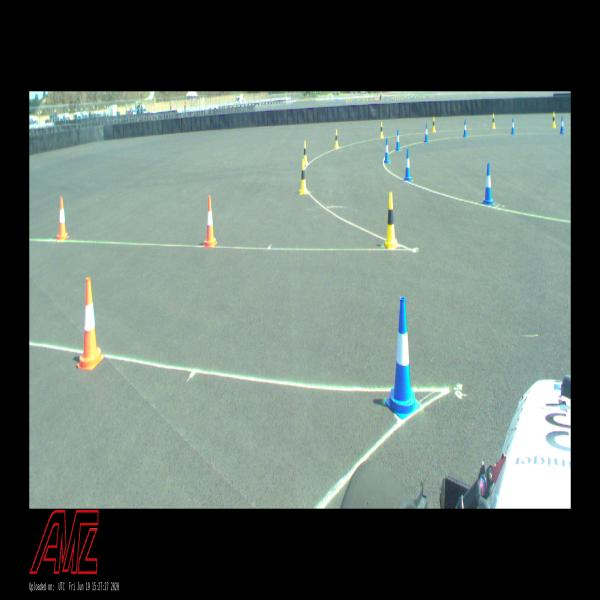blue_cone: (385, 297, 420, 419), (482, 163, 494, 205), (404, 149, 412, 181), (384, 138, 390, 163), (424, 123, 429, 143), (560, 116, 565, 134), (396, 129, 400, 150), (463, 120, 467, 137), (511, 118, 515, 134)
orange_cone: (76, 277, 105, 371), (204, 196, 218, 247), (56, 196, 70, 240)
yellow_cone: (382, 192, 398, 248), (299, 160, 309, 195), (302, 141, 308, 165), (334, 130, 339, 148), (552, 111, 556, 128), (380, 122, 384, 138), (492, 113, 496, 128), (432, 117, 436, 132)
